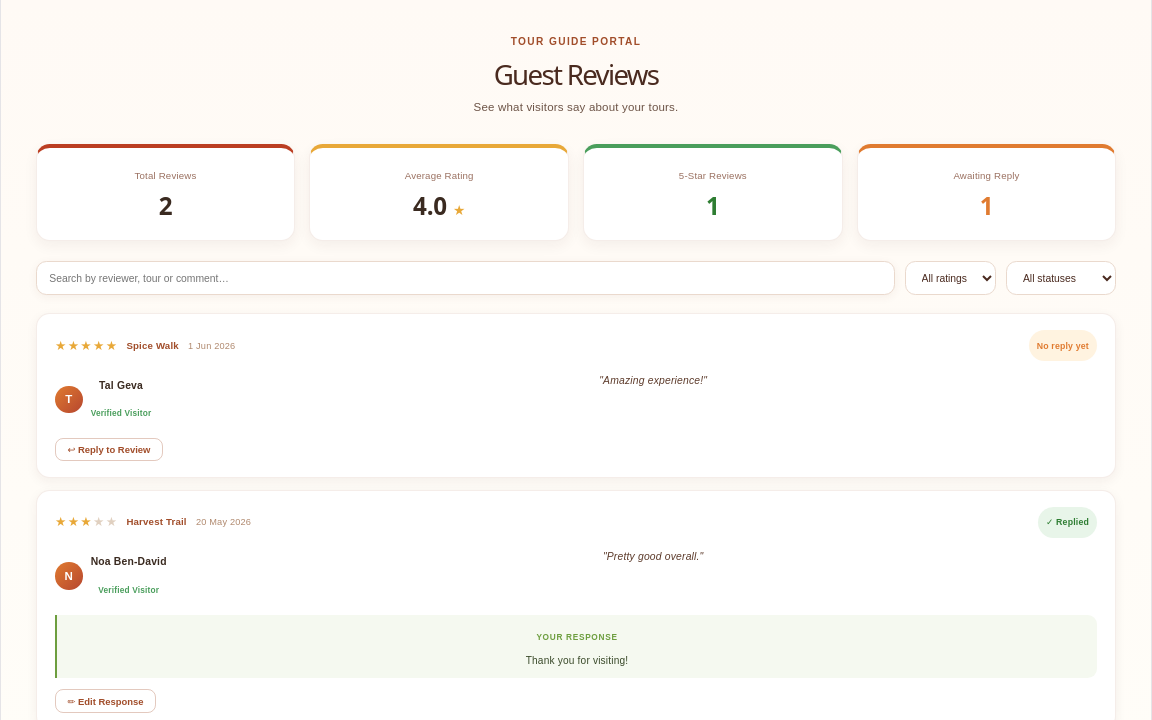
Test: reply filter › replied filter shows only reviews that have a reply
Expected: the text "Noa Ben-David" is shown, [91, 556, 167, 567]
Select "Replied" in the 2nd dropdown. click: (1061, 278)
box: [1006, 261, 1116, 295]
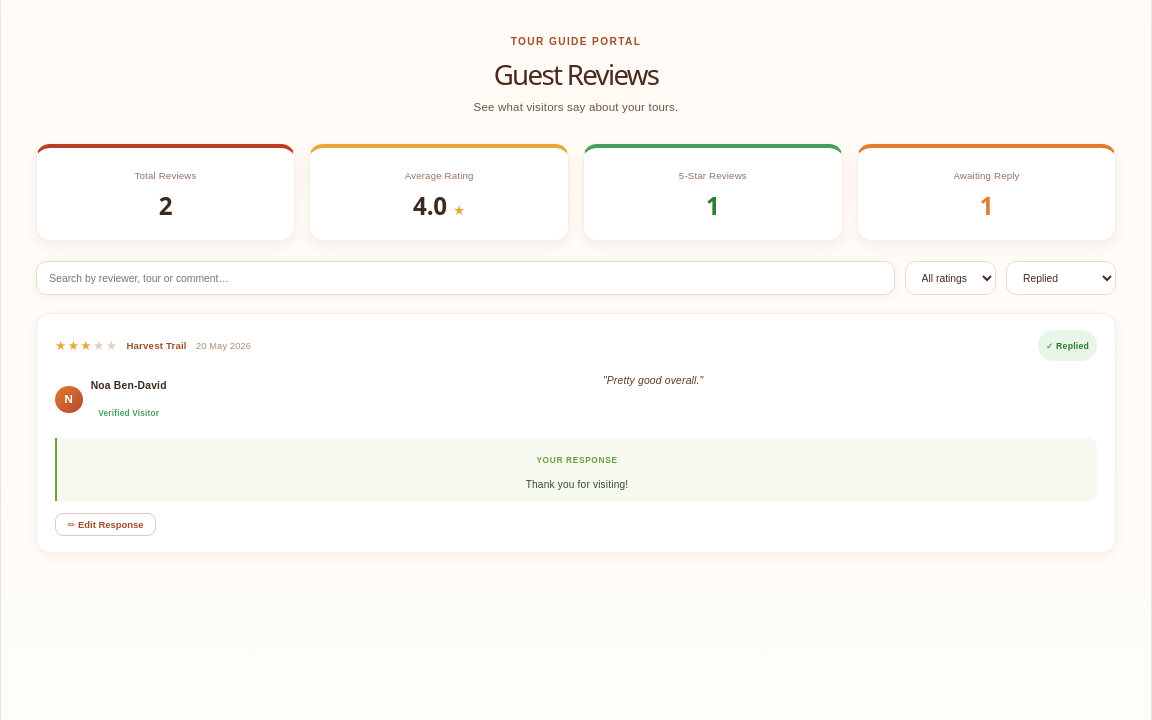
Expected: the text "Noa Ben-David" is shown, [91, 380, 167, 390]
Result: the text "Tal Geva" is gone
